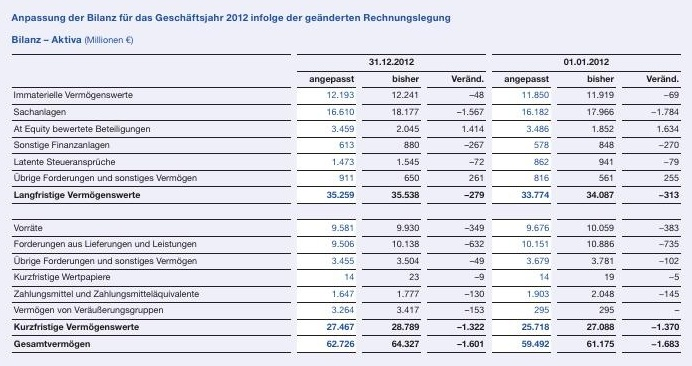table: (0, 0, 692, 366)
